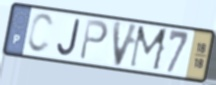7: (166, 28, 190, 76)
C: (26, 12, 56, 55)
J: (55, 18, 82, 58)
M: (127, 24, 170, 74)
P: (77, 18, 110, 63)
V: (112, 19, 141, 69)
